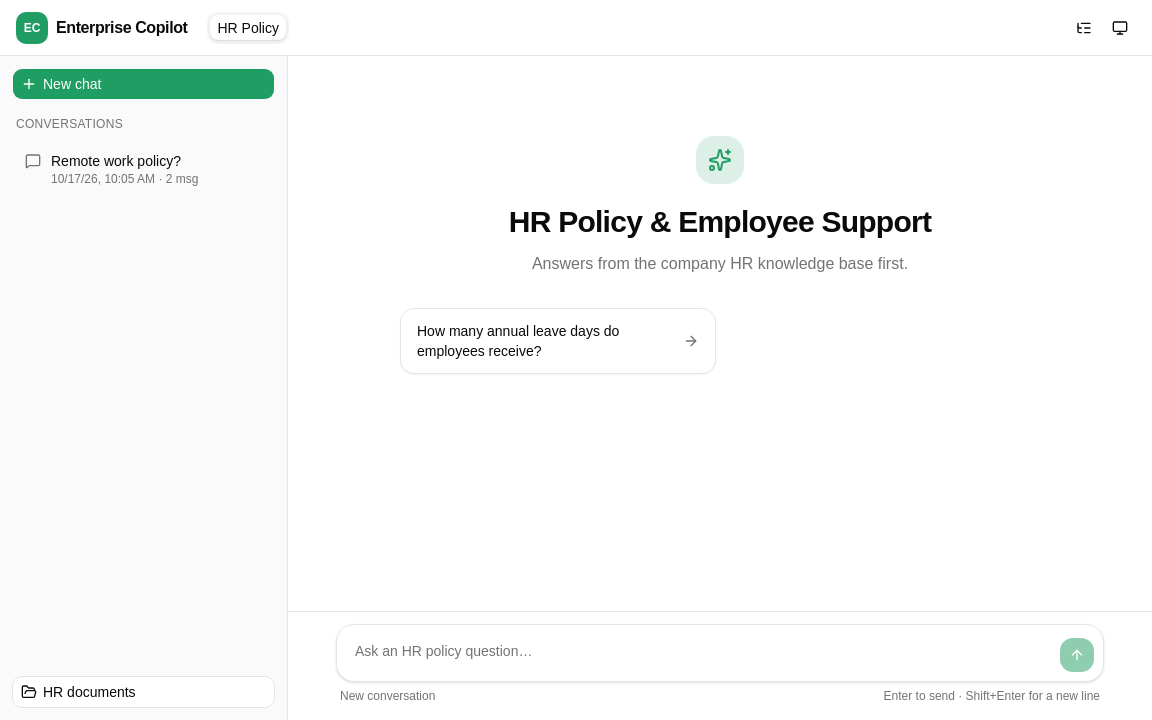
Scenario: ChatPage › shows a readable error when the agent fails
This screenshot has width=1152, height=720.
Type "Hello there" into the text box named "Your question". click: (698, 653)
box: [345,633,1051,673]
Then press Enter
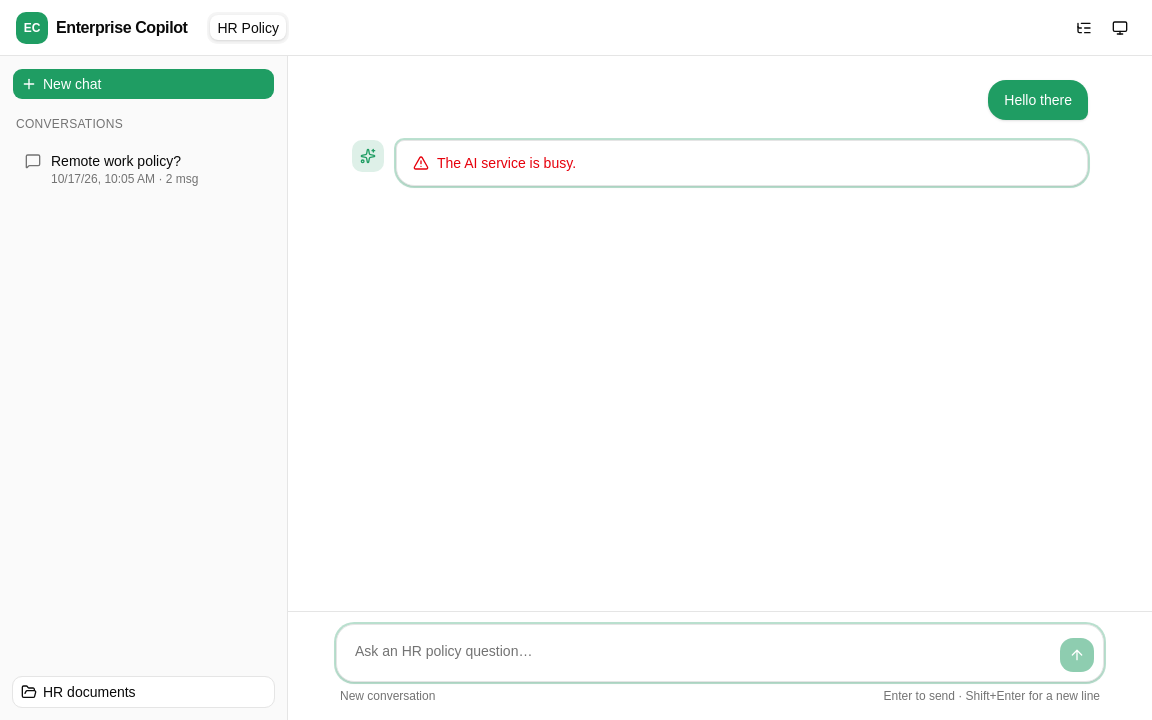
Now the message reads "The AI service is busy.", box [437,155,576,171]
